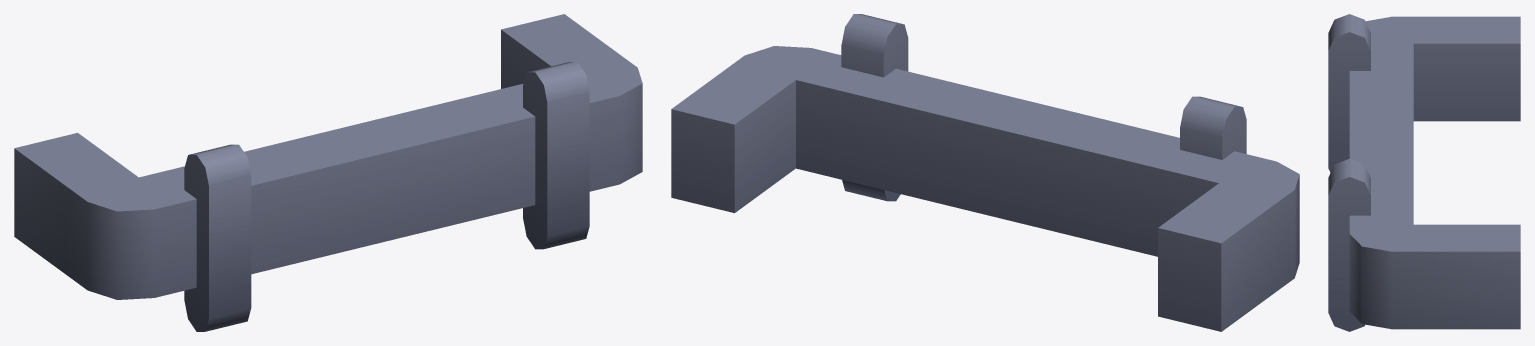
3 renders of one model, left to right at view 1: azimuth 30°, elevation 25°; view 2: azimuth 150°, elevation 25°; view 3: azimuth 270°, elevation 25°, orthographic. The views are drawn at different scales.
Visible parts, largest first — view 1: debris-bumper; view 2: debris-bumper; view 3: debris-bumper.
Boxes of the visible parts, <box> form: debris-bumper: <box>14,14,642,331</box>; debris-bumper: <box>671,14,1299,331</box>; debris-bumper: <box>1328,14,1520,331</box>.
Bounding box in the file's own units: 1.3 × 0.4 × 0.45.
1 material, 1 textured.
